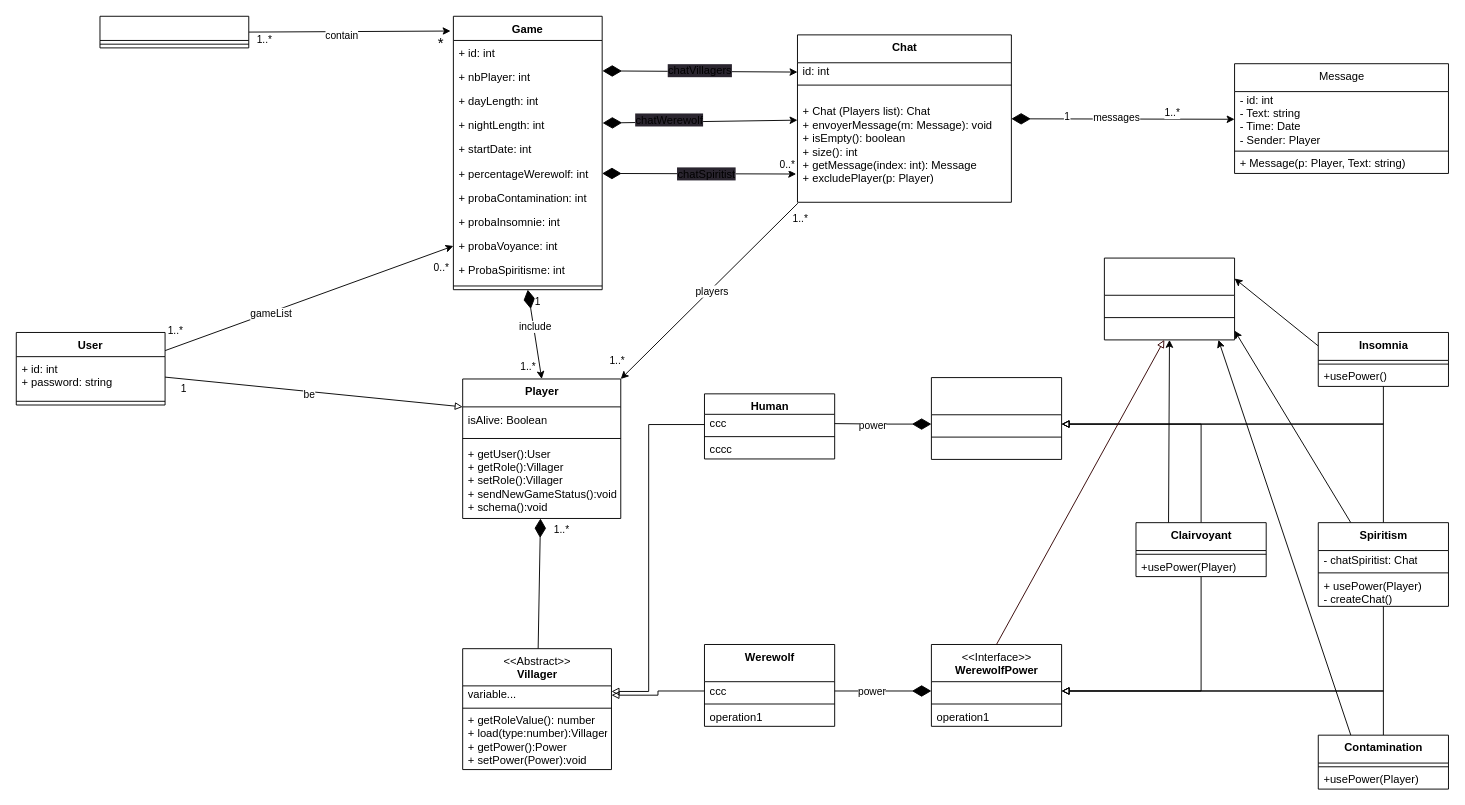
Some shapes in this 1465 by 805 pixel diagram are drawn without their labels. Here are the shapes that lost their labels. From the top down, the centre of each, then its label:
the point at 174,31: GameManager
the point at 1169,298: <<Abstract>> Power
the point at 996,418: <<Interface>> HumanPower
